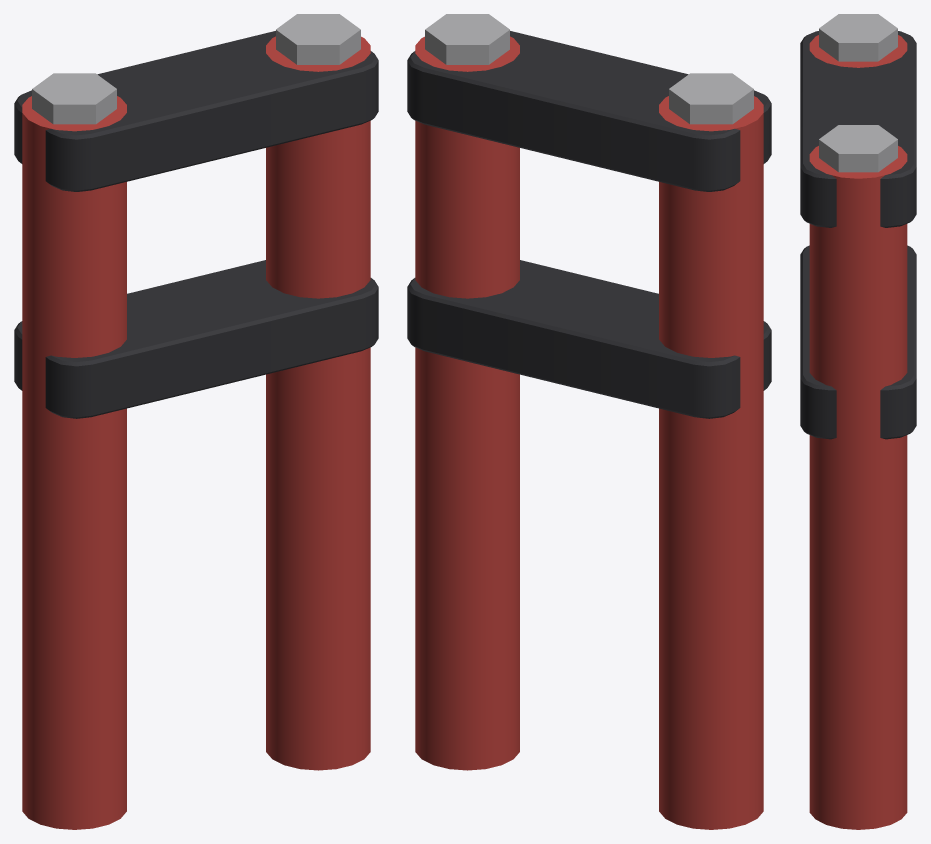
Rendered from scrambler_gold_usd_upper.glb.
3 views of the same model, side by side, from view 1: azimuth 30°, elevation 25°; view 2: azimuth 150°, elevation 25°; view 3: azimuth 270°, elevation 25° (orthographic). The views are drawn at different scales.
Visible parts, largest first — view 1: lod0; view 2: lod0; view 3: lod0.
Boxes of the visible parts, x1,y1,x2,y2 form: lod0: [14, 14, 378, 829]; lod0: [407, 14, 771, 829]; lod0: [800, 14, 916, 829].
Size of what is drawn, in the model's own units: 0.248 by 0.507 by 0.08.
